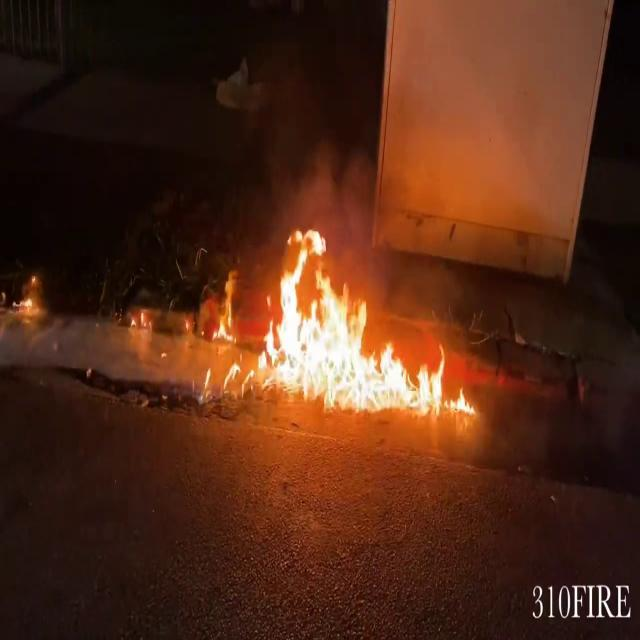Fire: (206, 219, 474, 417)
